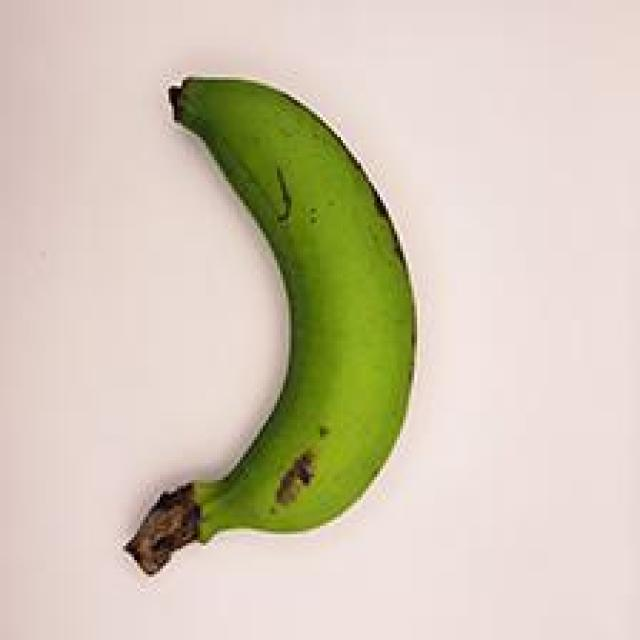Raw: (73, 53, 439, 589)
